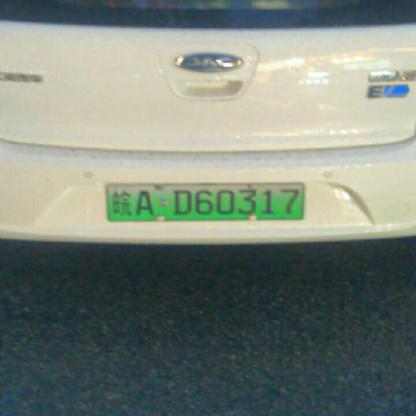lp: (104, 182, 304, 219)
